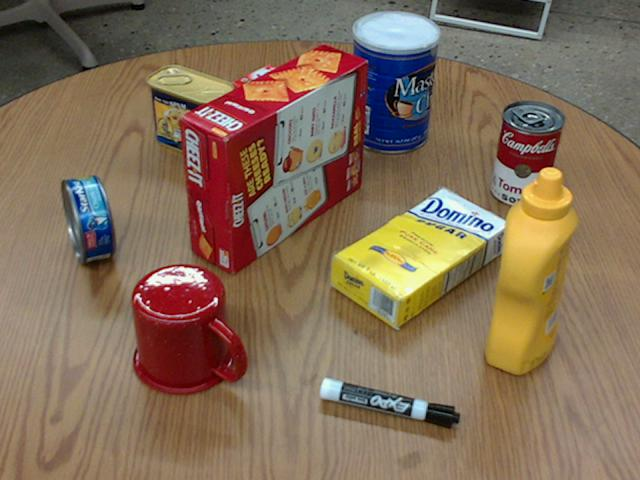cracker_box: (180, 43, 365, 273)
gelatin_box: (230, 63, 315, 118)
large_marker: (319, 378, 459, 427)
master_chef_can: (348, 11, 438, 151)
mug: (131, 263, 243, 393)
mustard_bottle: (486, 167, 578, 374)
potted_meat_can: (147, 64, 233, 157)
sugar_box: (330, 189, 509, 326)
tomato_soup_can: (491, 101, 564, 207)
tuna_fish_can: (61, 175, 116, 263)
